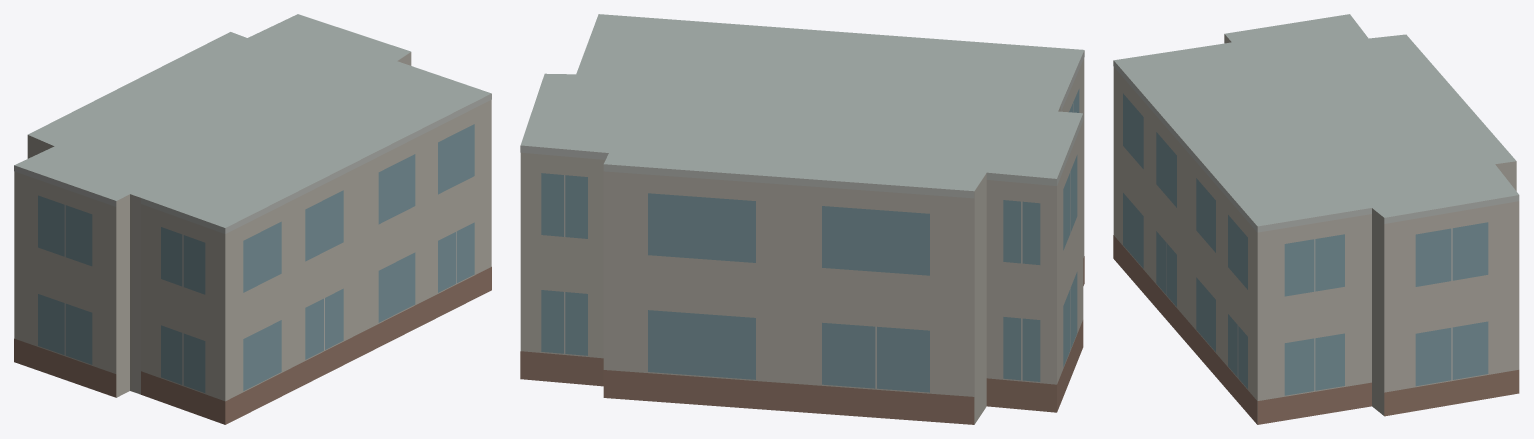
The model's file is survey-upis-32857147.glb.
3 views of the same model, side by side, from view 1: azimuth 30°, elevation 25°; view 2: azimuth 150°, elevation 25°; view 3: azimuth 270°, elevation 25° (orthographic). The views are drawn at different scales.
Visible parts, largest first — view 1: survey-upis-32857147.tmp; view 2: survey-upis-32857147.tmp; view 3: survey-upis-32857147.tmp.
Part boxes in pixels (x1,y1,x2,y2): survey-upis-32857147.tmp: [14, 14, 491, 424]; survey-upis-32857147.tmp: [520, 14, 1084, 424]; survey-upis-32857147.tmp: [1113, 14, 1519, 424].
Size of the model in its own units: 18.15 by 7.9 by 14.65.
